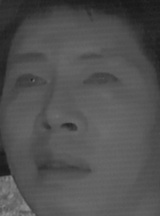eye: (82, 66, 121, 91), (11, 71, 50, 92)
mouth: (32, 147, 94, 184)
